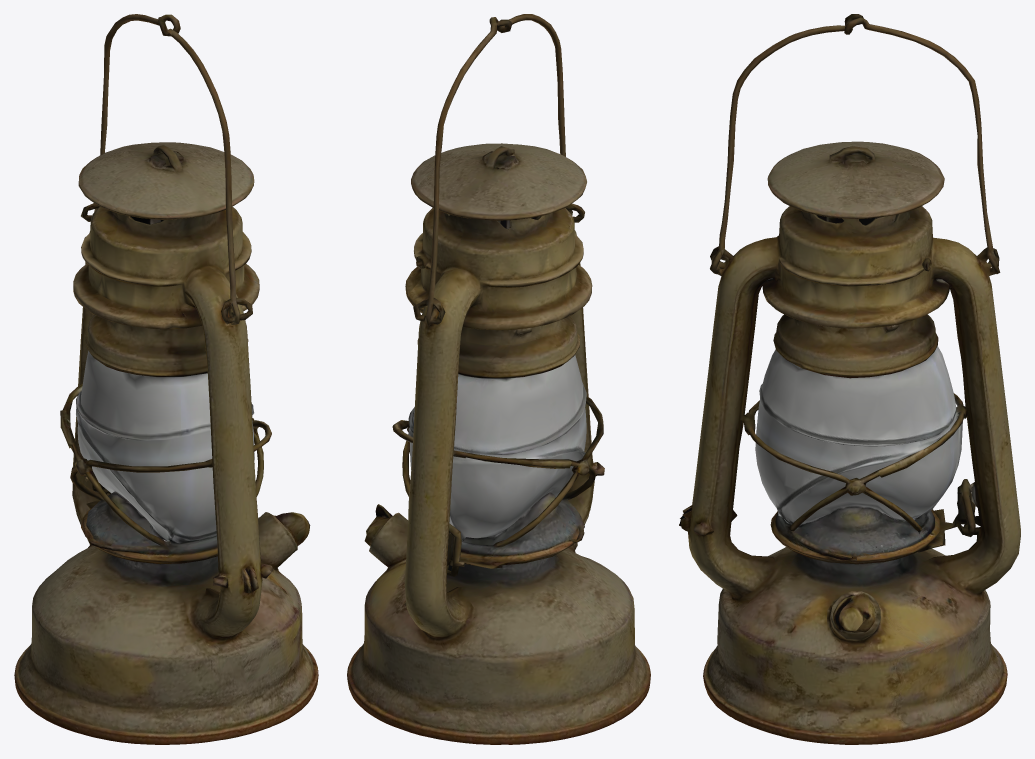
The model's file is lantern.glb.
The picture shows the model from 3 angles, left to right: view 1: azimuth 30°, elevation 25°; view 2: azimuth 150°, elevation 25°; view 3: azimuth 270°, elevation 25°; orthographic projection.
Parts seen in each view (by area): view 1: tripo_node_0d3599a0-9683-4e12-88e8-9074936920cc; view 2: tripo_node_0d3599a0-9683-4e12-88e8-9074936920cc; view 3: tripo_node_0d3599a0-9683-4e12-88e8-9074936920cc.
Boxes of the visible parts, box(x1,y1,x2,y2) form: tripo_node_0d3599a0-9683-4e12-88e8-9074936920cc: box(14, 14, 318, 744); tripo_node_0d3599a0-9683-4e12-88e8-9074936920cc: box(347, 14, 650, 744); tripo_node_0d3599a0-9683-4e12-88e8-9074936920cc: box(679, 14, 1020, 744).
Size of the model in its own units: 0.4177 by 1 by 0.4652.
Materials: 1 (1 with a texture image).
